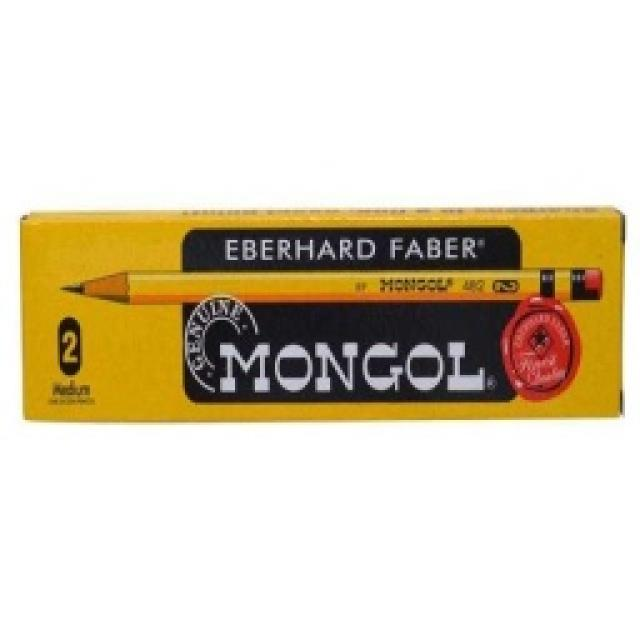pencil: (17, 202, 625, 422)
